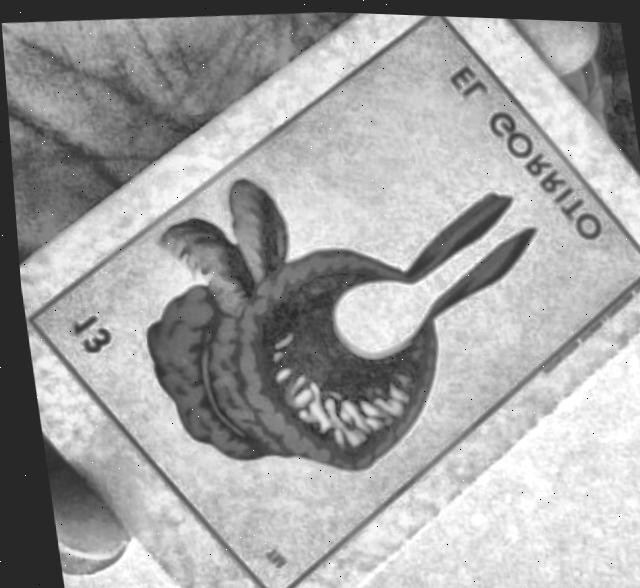El Gorrito: (26, 15, 640, 588)
